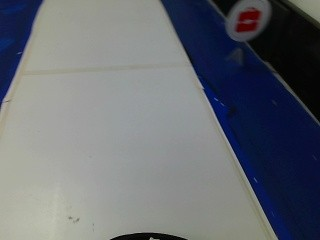company: (225, 0, 270, 43)
